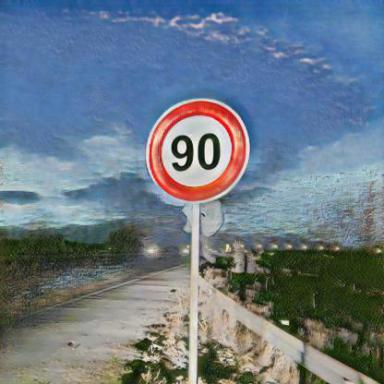Speed_limit_90: (146, 101, 245, 200)
